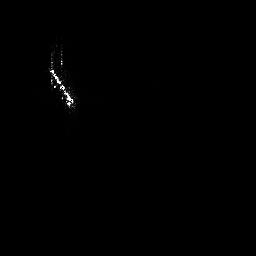ship: (48, 42, 79, 113)
